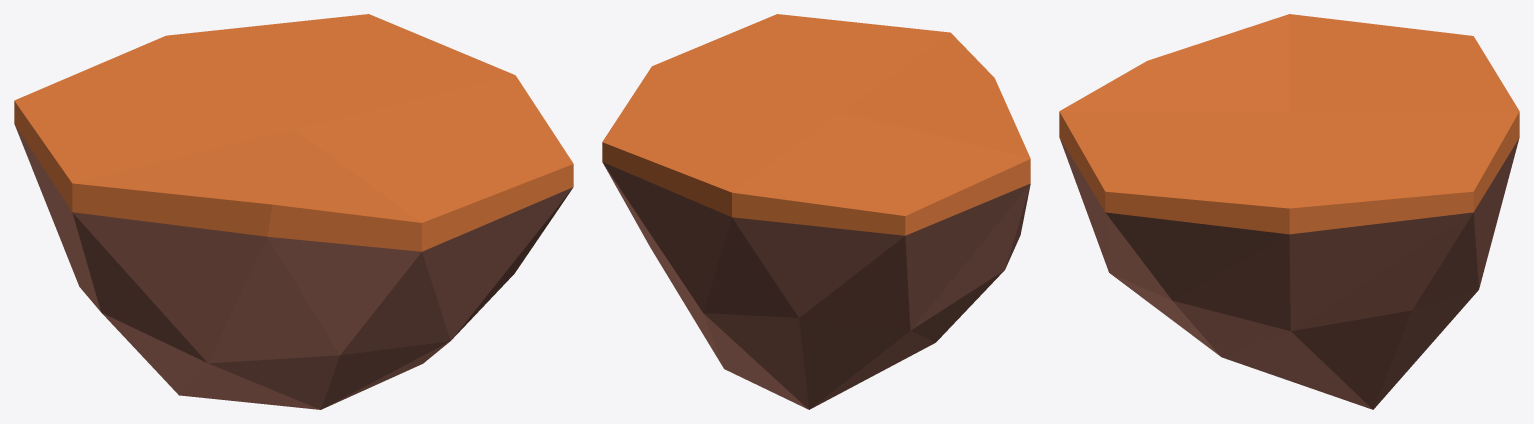
Rendered from 01_01Island_Orange.fbx.
3 renders of one model, left to right at view 1: azimuth 30°, elevation 25°; view 2: azimuth 150°, elevation 25°; view 3: azimuth 270°, elevation 25°, orthographic. The views are drawn at different scales.
Visible parts, largest first — view 1: Icosphere.022; view 2: Icosphere.022; view 3: Icosphere.022.
Part boxes in pixels (x1,y1,x2,y2): Icosphere.022: [14, 14, 573, 409]; Icosphere.022: [602, 14, 1030, 409]; Icosphere.022: [1059, 14, 1519, 409].
Size of the model in its own units: 200 by 127 by 200.
